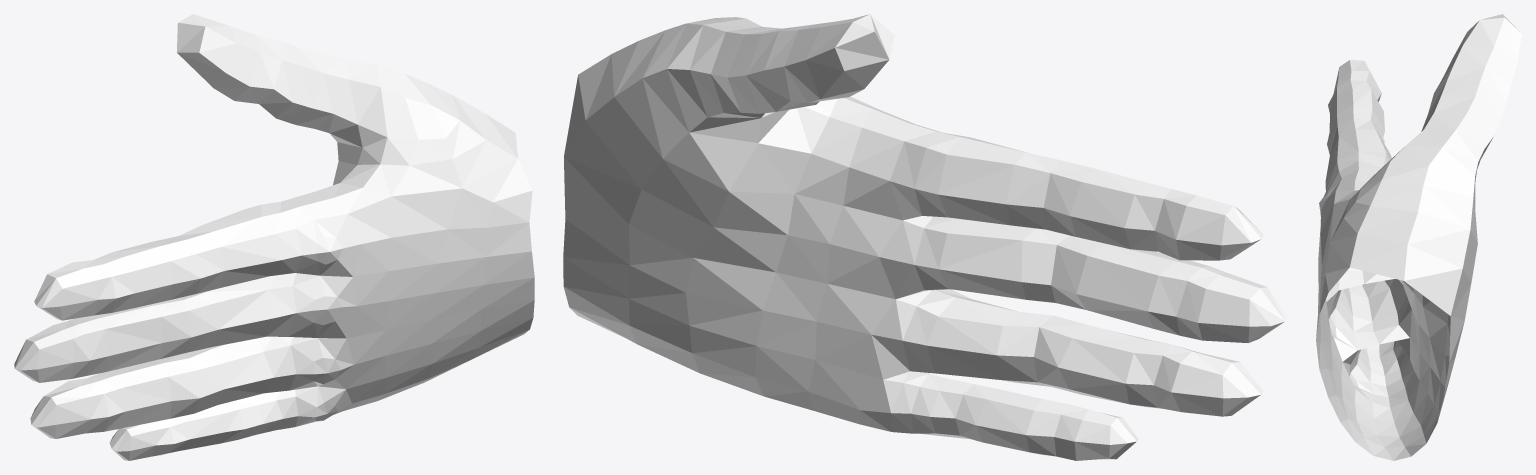
Rendered from l_hand.dae.
The picture shows the model from 3 angles, left to right: view 1: azimuth 30°, elevation 25°; view 2: azimuth 150°, elevation 25°; view 3: azimuth 270°, elevation 25°; orthographic projection. The views are drawn at different scales.
Visible parts, largest first — view 1: node; view 2: node; view 3: node.
Part boxes in pixels (x1,y1,x2,y2): node: (14, 14, 534, 460); node: (563, 14, 1287, 460); node: (1316, 14, 1521, 460).
Size of the model in its own units: 0.2124 by 0.1439 by 0.0754.
Materials: 1 (1 with a texture image).
